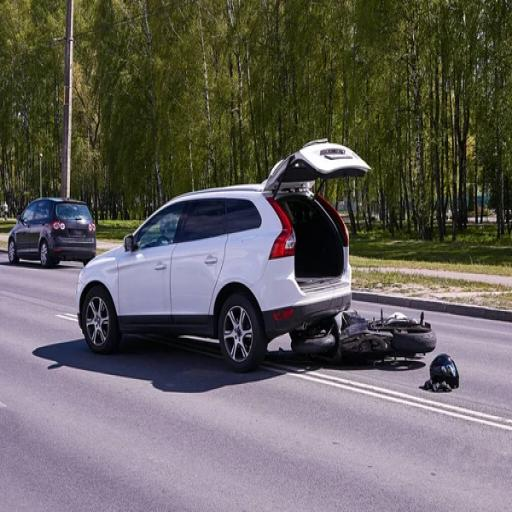小汽车: (7, 196, 99, 272)
小汽车撞自行车: (80, 180, 436, 378)
